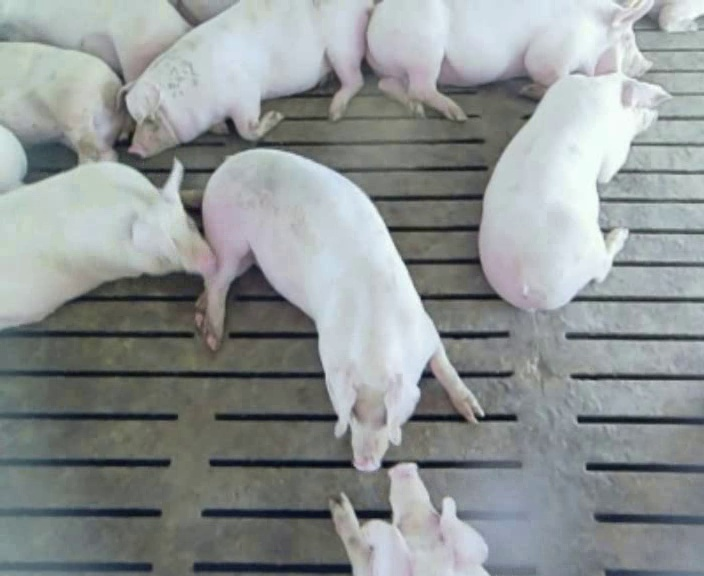pig: (196, 149, 482, 469), (479, 41, 669, 310), (118, 2, 371, 156), (0, 161, 213, 328), (367, 2, 651, 120), (329, 463, 487, 574)
